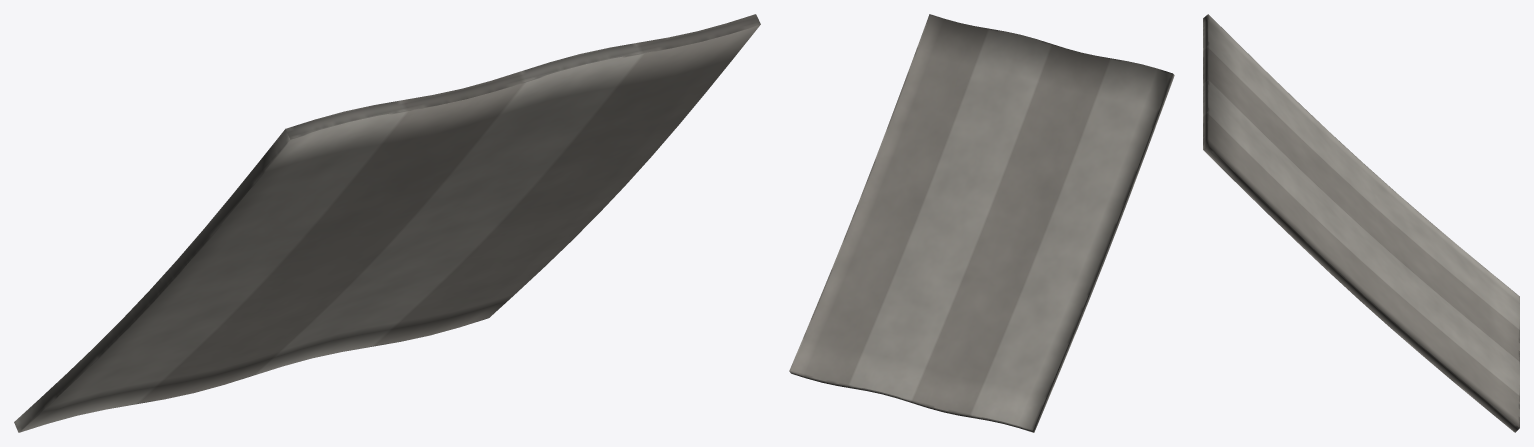
File: awning_pale.obj
The picture shows the model from 3 angles, left to right: view 1: azimuth 30°, elevation 25°; view 2: azimuth 150°, elevation 25°; view 3: azimuth 270°, elevation 25°; orthographic projection. The views are drawn at different scales.
Visible parts, largest first — view 1: part0, part1; view 2: part0, part1; view 3: part1, part0.
Part boxes in pixels (x1,y1,x2,y2): part0: [14, 42, 642, 432]; part1: [136, 14, 760, 404]; part0: [850, 29, 1174, 432]; part1: [789, 14, 1111, 417]; part1: [1203, 47, 1519, 432]; part0: [1203, 14, 1519, 394].
Size of the model in its own units: 1 by 1.03 by 1.02.
